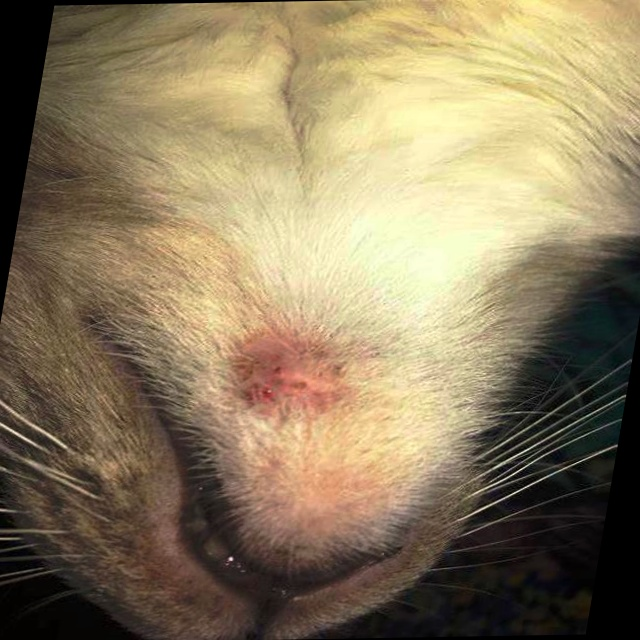acne: (222, 332, 334, 421)
